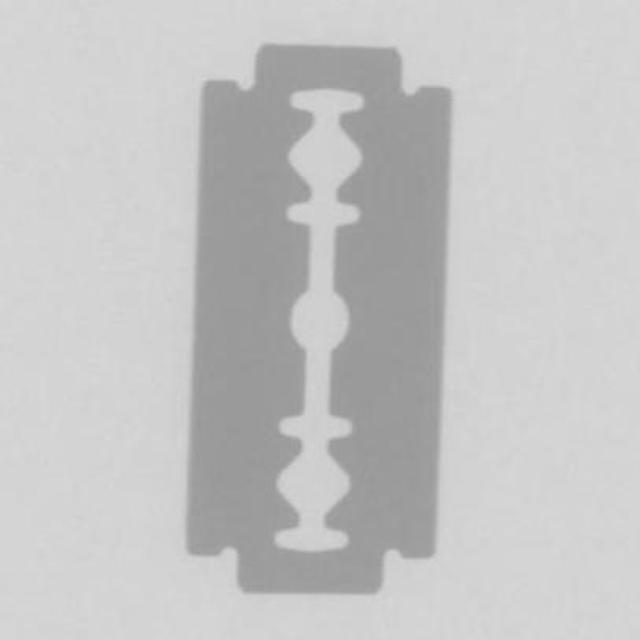razor: (180, 44, 455, 603)
